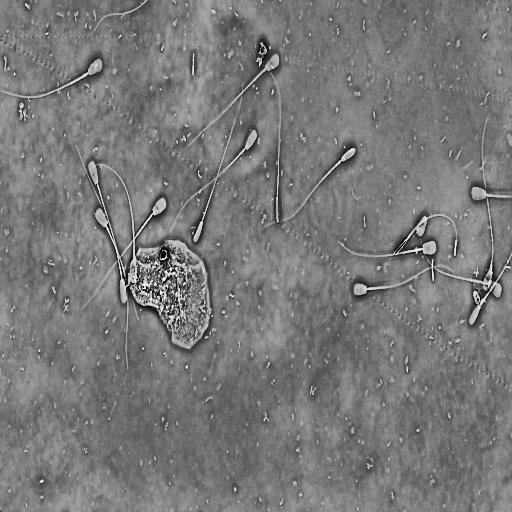dirt-particles: (126, 232, 217, 356), (252, 33, 270, 73), (473, 289, 481, 306)
loose-head: (415, 211, 429, 238)
loose-tail: (92, 0, 150, 36)
normal: (80, 195, 168, 312), (184, 50, 282, 153), (170, 125, 259, 236), (191, 74, 247, 248), (86, 155, 140, 329), (74, 141, 128, 306), (408, 224, 503, 301), (81, 160, 138, 286), (93, 204, 130, 372), (283, 143, 358, 222), (0, 54, 107, 103), (352, 263, 458, 300), (261, 61, 282, 226), (468, 252, 512, 328), (392, 212, 459, 258), (480, 114, 495, 295), (335, 237, 438, 261)
